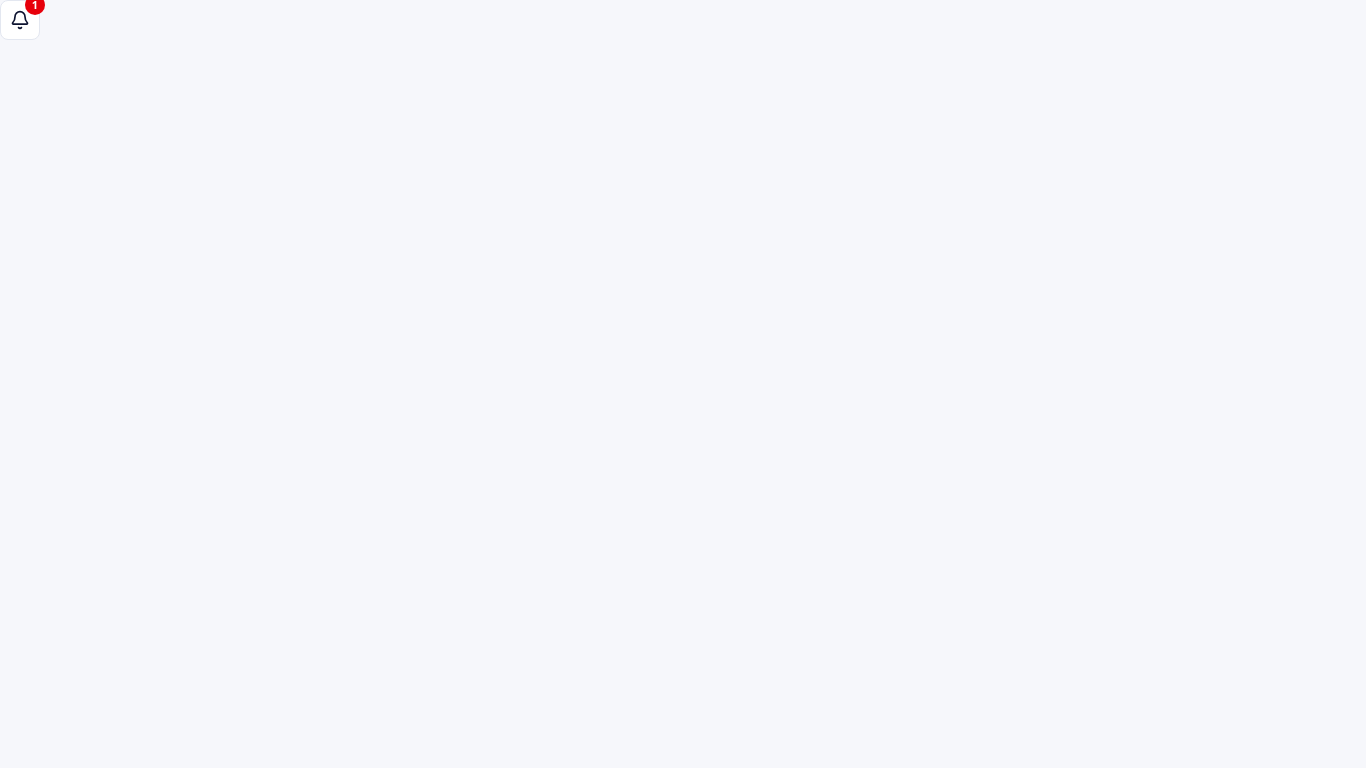
Test: NotificationBell › marks what is new until the bell has been opened and closed
This screenshot has width=1366, height=768.
Later steps or results of the test are not shown.
What coordinates should you click on to do the following:
click the button named "Notifications, 1"
I would click on:
 (20, 20)
Its box is [0,0,40,40].
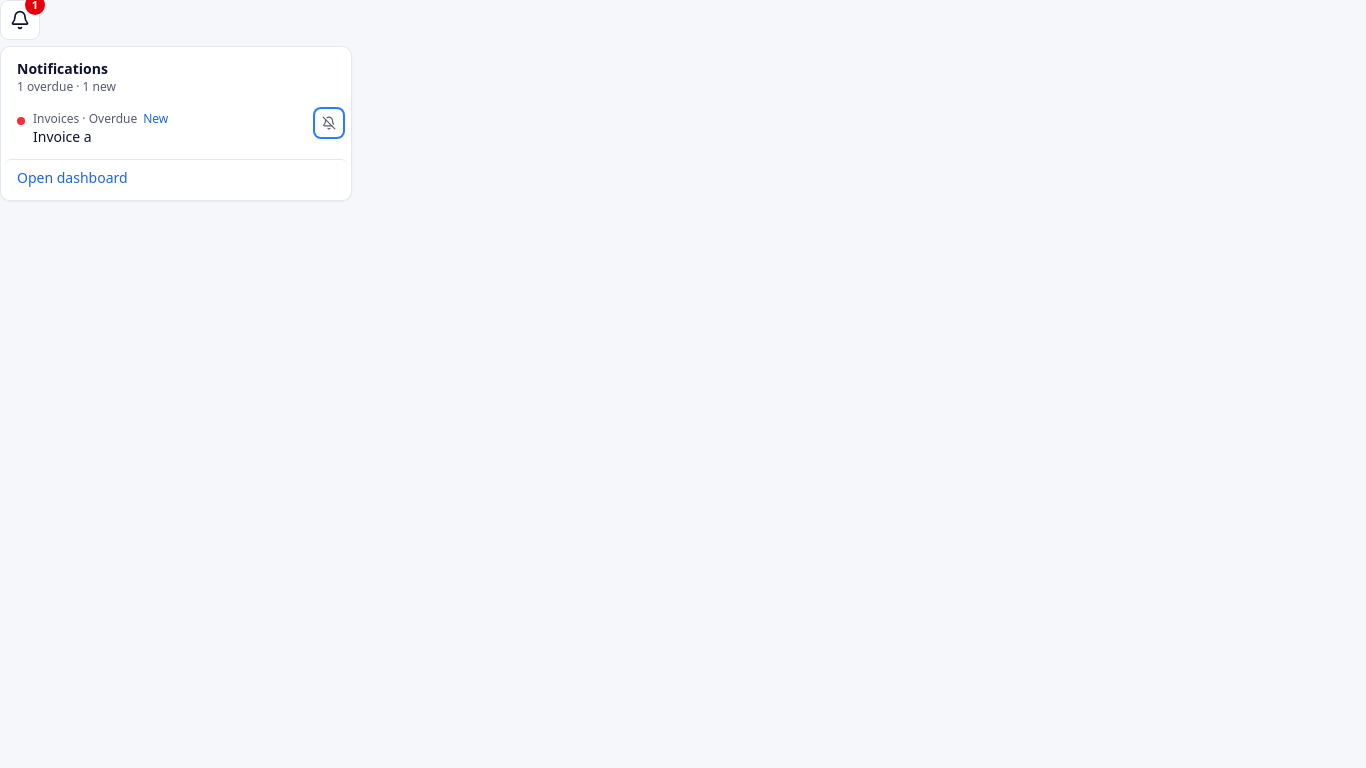
Check: the text "New" is shown, box [143,110,168,127]
Check: the text "1 overdue · 1 new" is shown, box [17,78,116,95]
